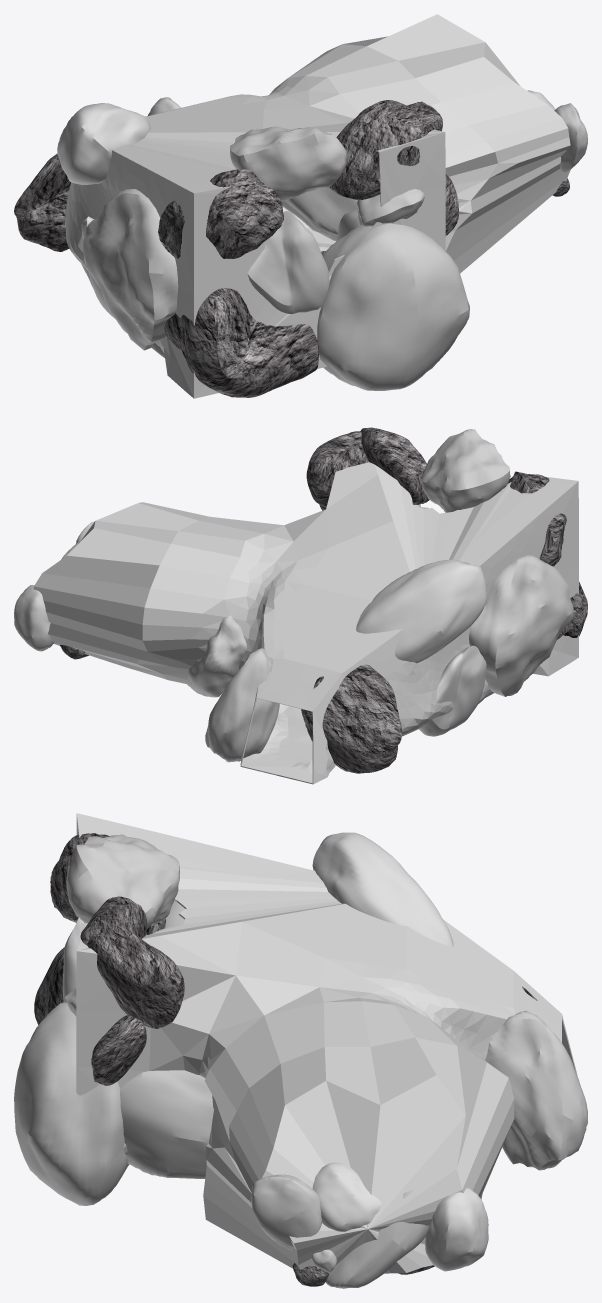
The model's file is cave2.fbx.
3 views of the same model, one above another, from view 1: azimuth 30°, elevation 25°; view 2: azimuth 150°, elevation 25°; view 3: azimuth 270°, elevation 25° (orthographic). The views are drawn at different scales.
Visible parts, largest first — view 1: Cube, rock.004, rock.003, rock.009, rock.007, rock.002, rock.005, rock.006, rock.013, rock.012, rock.014, rock.001 (+3 smaller); view 2: Cube, rock.009, rock.013, rock.012, rock.007, rock.011, rock.031, rock.014, rock.006, rock.029, rock.023, rock.002 (+1 smaller); view 3: Cube, rock.004, rock.011, rock.008, rock.013, rock.007, rock.029, rock.023, rock.019, rock.018, rock.021, rock.030 (+4 smaller).
Part boxes in pixels (<box>): Cube: <box>65,14,570,398</box>; rock.004: <box>317,223,469,390</box>; rock.003: <box>164,288,318,397</box>; rock.009: <box>82,189,178,350</box>; rock.007: <box>230,126,346,201</box>; rock.002: <box>158,169,283,258</box>; rock.005: <box>247,211,329,313</box>; rock.006: <box>329,100,423,199</box>; rock.013: <box>57,103,150,184</box>; rock.012: <box>14,153,70,251</box>; rock.014: <box>281,187,357,241</box>; rock.001: <box>357,189,424,226</box>; Cube: <box>33,428,578,784</box>; rock.009: <box>469,555,573,696</box>; rock.013: <box>356,559,487,663</box>; rock.012: <box>301,664,401,773</box>; rock.007: <box>421,429,510,512</box>; rock.011: <box>205,648,279,762</box>; rock.031: <box>419,645,486,736</box>; rock.014: <box>186,615,247,697</box>; rock.006: <box>361,427,429,504</box>; rock.029: <box>306,431,368,507</box>; rock.023: <box>14,585,54,651</box>; rock.002: <box>508,471,566,566</box>; Cube: <box>76,813,577,1273</box>; rock.004: <box>14,1002,129,1205</box>; rock.011: <box>485,1010,587,1170</box>; rock.008: <box>120,1070,213,1178</box>; rock.013: <box>312,832,453,946</box>; rock.007: <box>66,834,179,929</box>; rock.029: <box>87,926,184,1028</box>; rock.023: <box>425,1188,488,1271</box>; rock.019: <box>251,1174,321,1250</box>; rock.018: <box>325,1189,428,1288</box>; rock.021: <box>312,1162,381,1231</box>; rock.030: <box>91,1014,146,1085</box>.
Size of the model in its own units: 3776 by 1945 by 3290.
